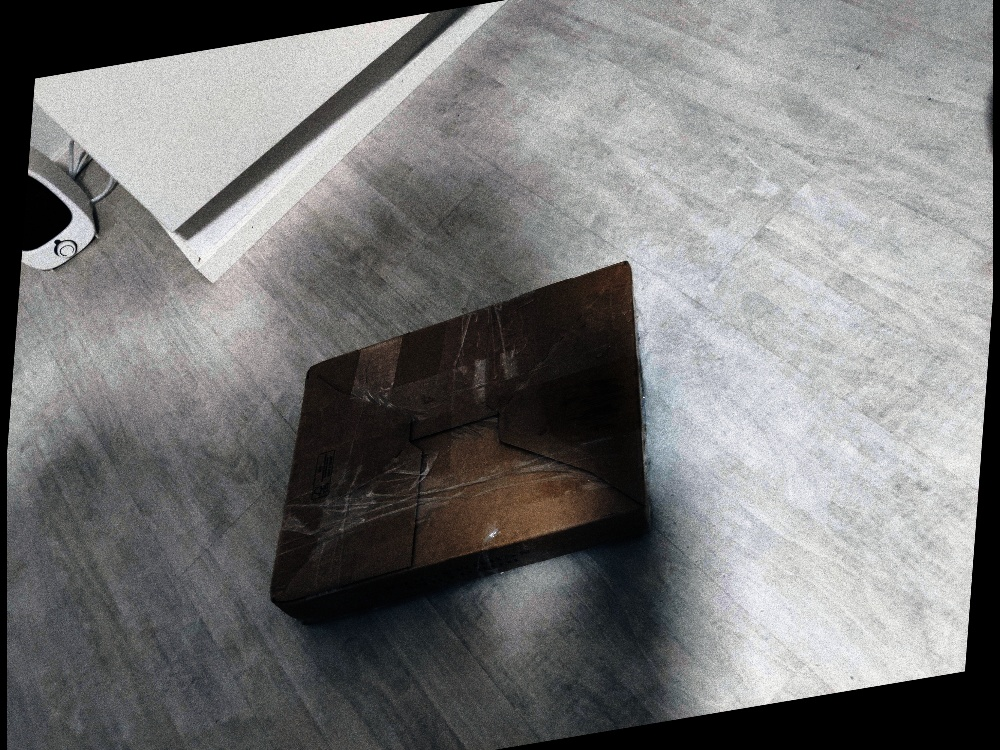good-parcel: (254, 250, 673, 603)
